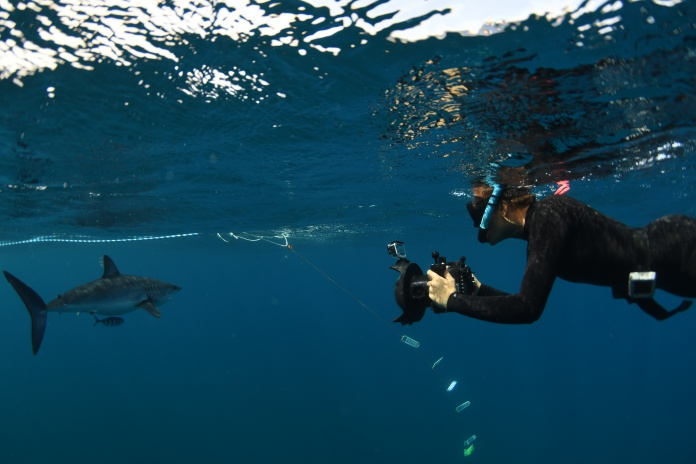Mako: (1, 245, 196, 363)
